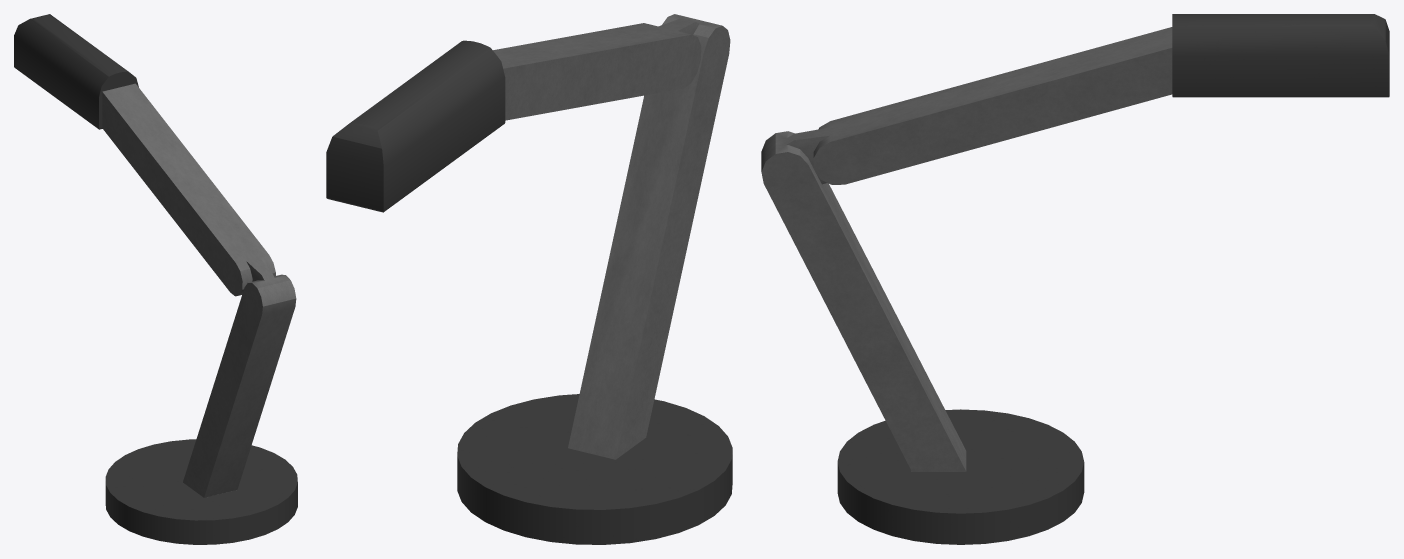
Rendered from table_lamp.fbx.
The picture shows the model from 3 angles, left to right: view 1: azimuth 30°, elevation 25°; view 2: azimuth 150°, elevation 25°; view 3: azimuth 270°, elevation 25°; orthographic projection. The views are drawn at different scales.
Visible parts, largest first — view 1: bake; view 2: bake; view 3: bake.
Boxes of the visible parts, bbox=[...] form: bake: bbox=[14, 14, 297, 544]; bake: bbox=[326, 14, 732, 544]; bake: bbox=[761, 14, 1389, 544].
Size of the model in its own units: 500 by 1061 by 1273.
1 material, 1 textured.
